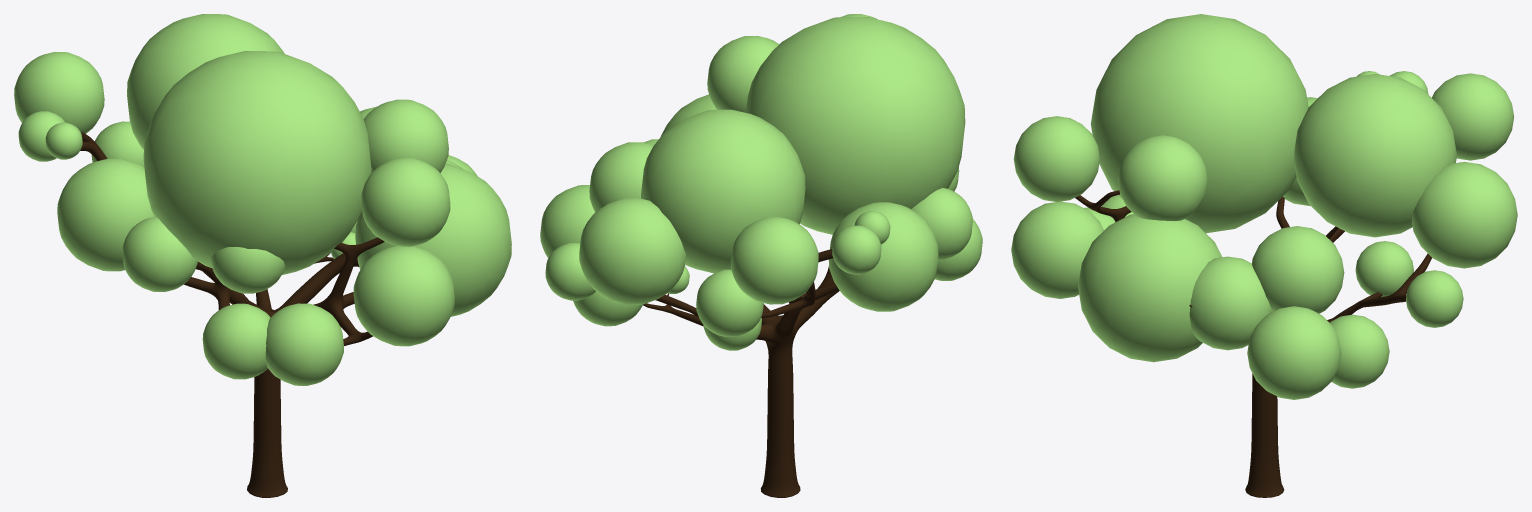
File: Arbre1_LowPoly.fbx
3 renders of one model, left to right at view 1: azimuth 30°, elevation 25°; view 2: azimuth 150°, elevation 25°; view 3: azimuth 270°, elevation 25°, orthographic. The views are drawn at different scales.
Visible parts, largest first — view 1: Arbre; view 2: Arbre; view 3: Arbre.
Boxes of the visible parts, x1=… form: Arbre: x1=14, y1=14, x2=511, y2=497; Arbre: x1=540, y1=14, x2=982, y2=497; Arbre: x1=1011, y1=14, x2=1517, y2=497.
Size of the model in its own units: 3293 by 3612 by 3713.
